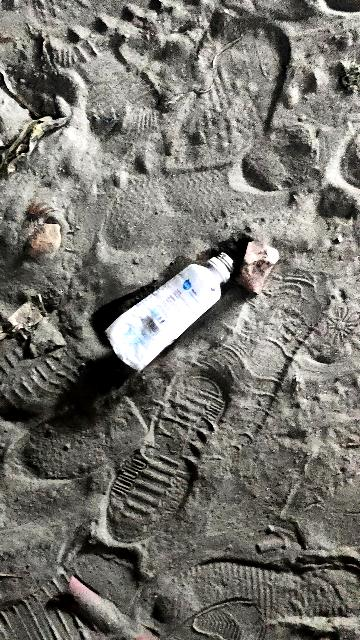bottle: (93, 241, 246, 386)
